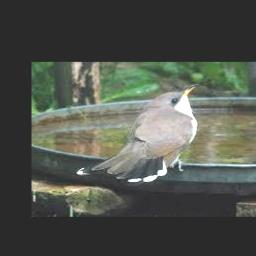Cuckoo: (76, 84, 202, 182)
